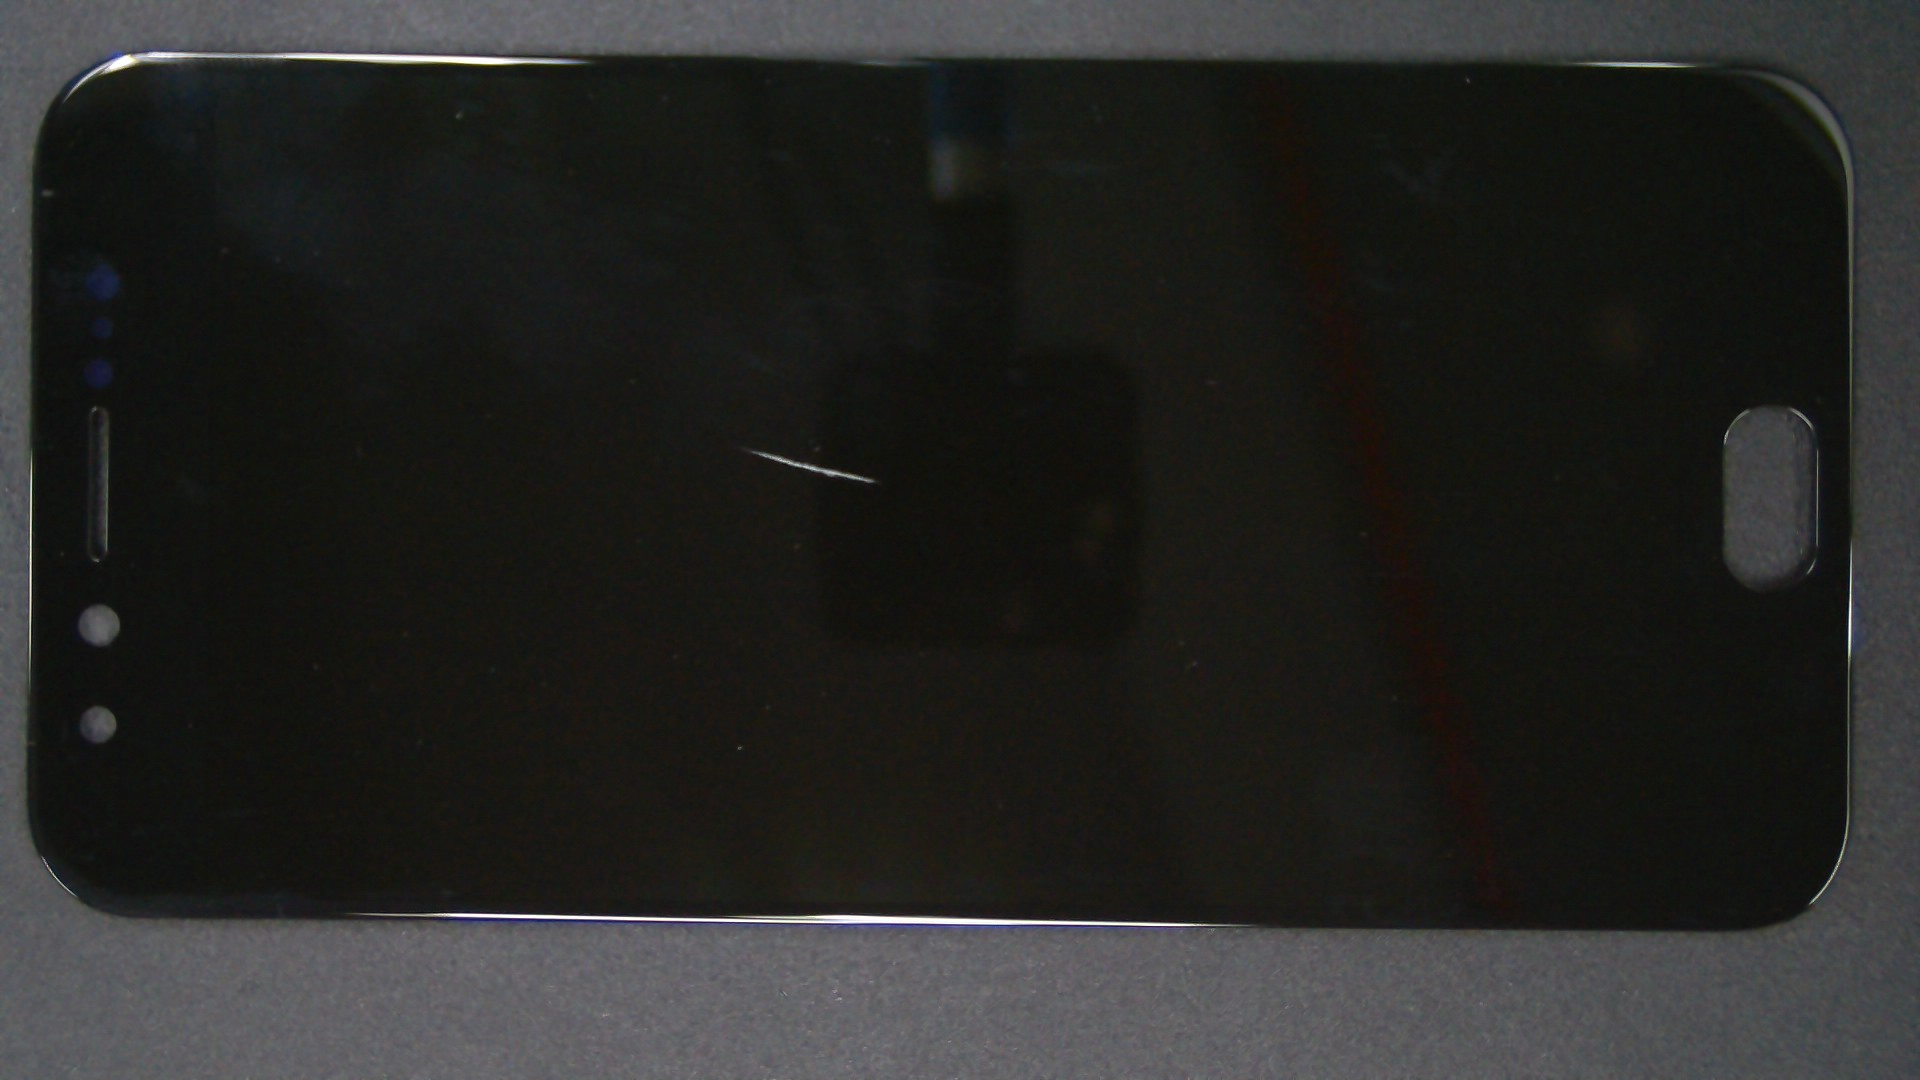oil: (372, 223, 1114, 674)
